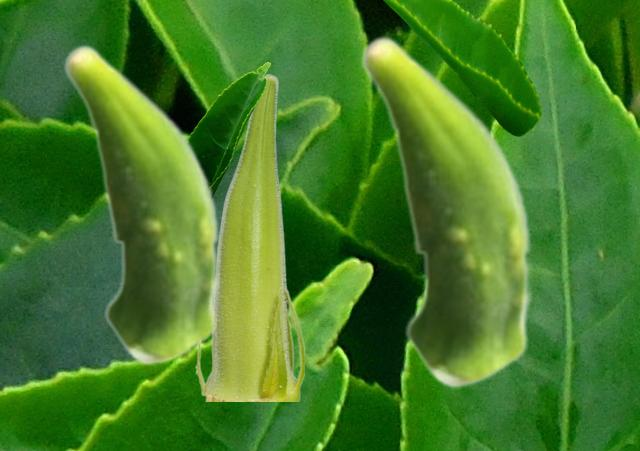okra: (359, 34, 533, 388), (62, 43, 221, 365), (194, 73, 303, 400)
